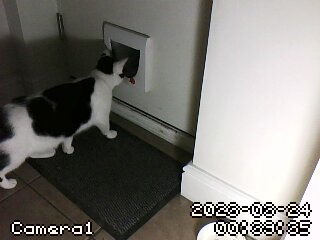bad: (1, 47, 137, 191)
